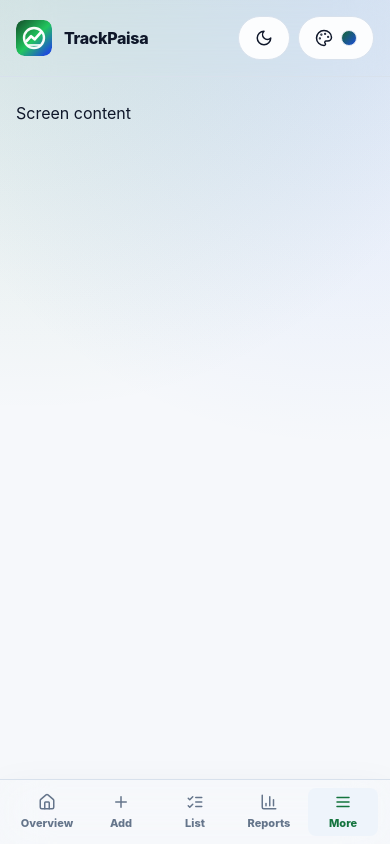
AppShell responsive layout contract › exposes secondary destinations from the mobile more menu
The width and height of the screenshot is (390, 844).
Click the button with aria-label "Open more navigation options" at (343, 812), box left=308, top=788, right=378, bottom=836
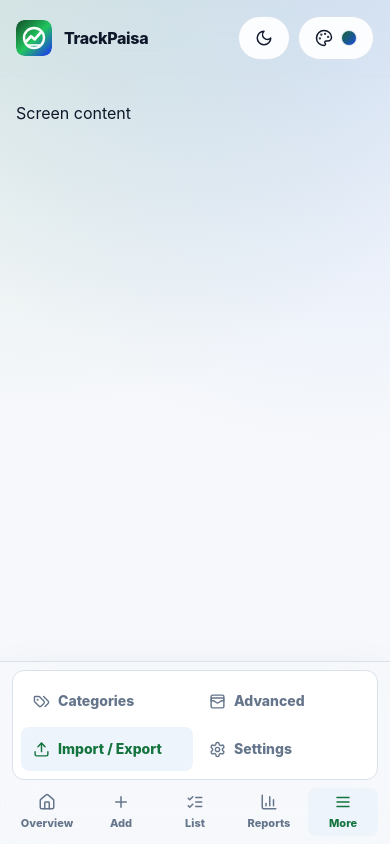
Now the link "Categories" is shown, box left=33, top=692, right=134, bottom=710
Now the link "Advanced" is shown, box left=209, top=692, right=305, bottom=710
Now the link "Settings" is shown, box left=209, top=740, right=292, bottom=758
